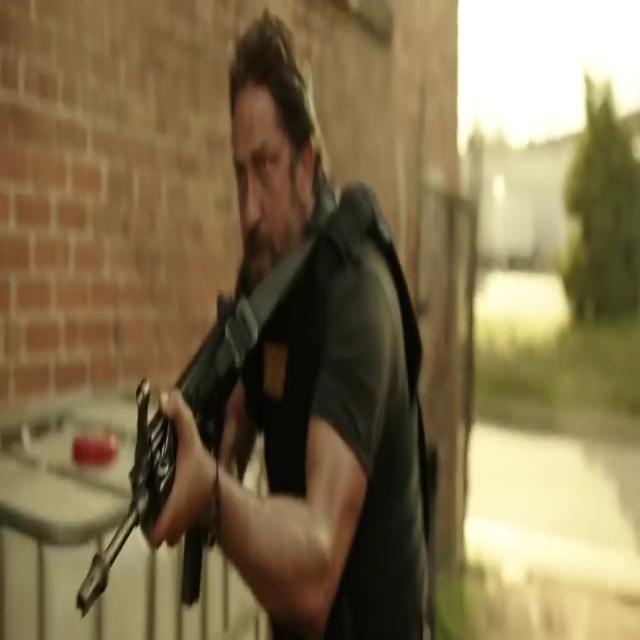Weapon: (44, 309, 298, 603)
